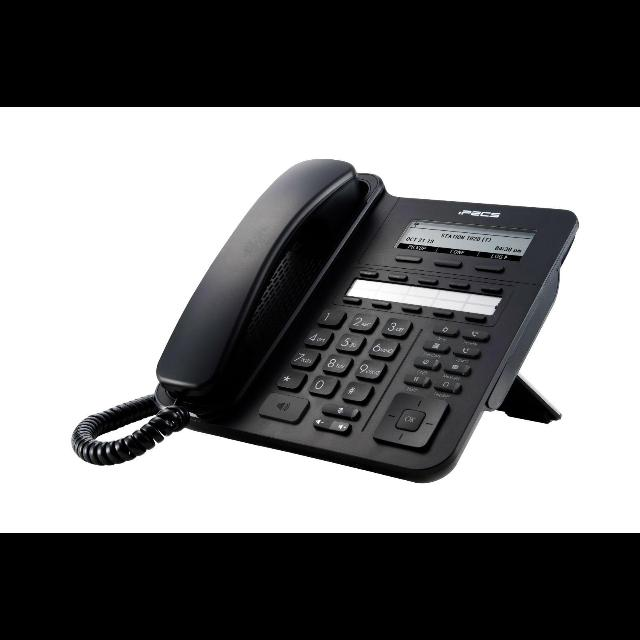Telephone-Set: (141, 130, 583, 498)
